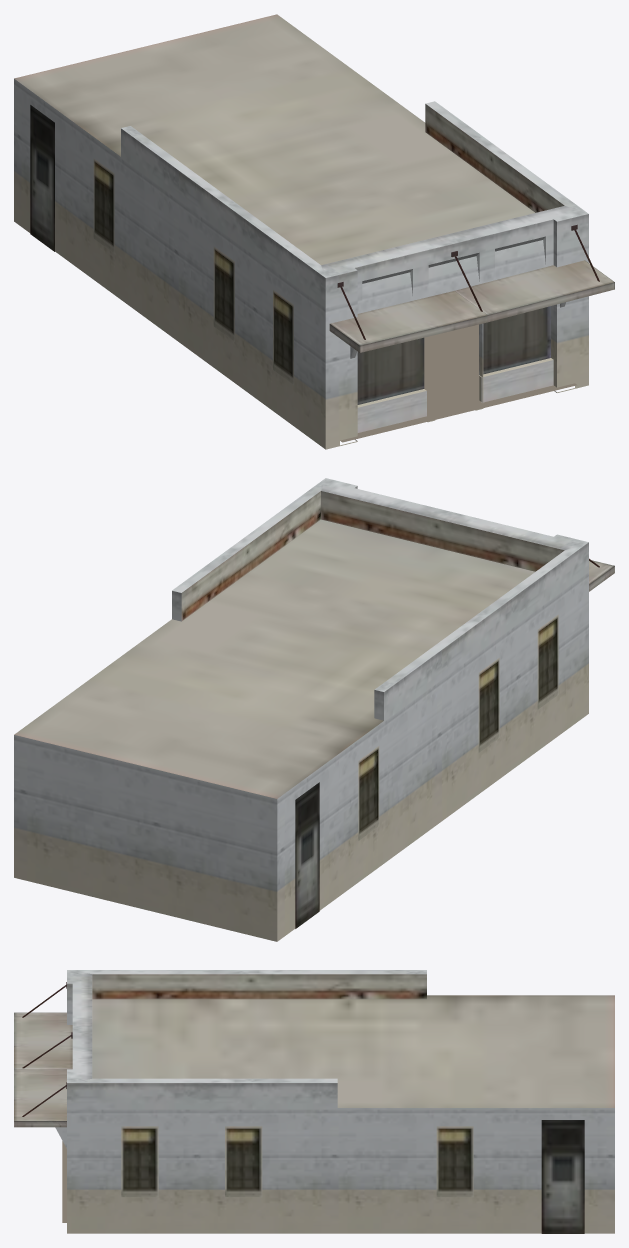
Rendered from rural-store-3.zfix-v1.lod1.glb.
3 renders of one model, top to bottom at view 1: azimuth 30°, elevation 25°; view 2: azimuth 150°, elevation 25°; view 3: azimuth 270°, elevation 25°, orthographic. The views are drawn at different scales.
Visible parts, largest first — view 1: Rural_StoreSmall_3_Rural_Facade_FLR_2_0, Rural_StoreSmall_3_Rural_Midcity_Walls_FLR_1_0, Walkable floors and stairs; view 2: Rural_StoreSmall_3_Rural_Facade_FLR_2_0, Rural_StoreSmall_3_Rural_Midcity_Walls_FLR_1_0; view 3: Rural_StoreSmall_3_Rural_Facade_FLR_2_0, Rural_StoreSmall_3_Rural_Midcity_Walls_FLR_1_0, Walkable floors and stairs.
Part boxes in pixels (<box>): Rural_StoreSmall_3_Rural_Facade_FLR_2_0: <box>14,14,614,404</box>; Rural_StoreSmall_3_Rural_Midcity_Walls_FLR_1_0: <box>14,79,588,449</box>; Walkable floors and stairs: <box>340,324,577,442</box>; Rural_StoreSmall_3_Rural_Facade_FLR_2_0: <box>14,491,614,928</box>; Rural_StoreSmall_3_Rural_Midcity_Walls_FLR_1_0: <box>14,478,588,941</box>; Rural_StoreSmall_3_Rural_Facade_FLR_2_0: <box>14,974,614,1233</box>; Rural_StoreSmall_3_Rural_Midcity_Walls_FLR_1_0: <box>55,970,614,1233</box>; Walkable floors and stairs: <box>62,1141,66,1222</box>.
Size of the model in its own units: 6.07 by 3.76 by 13.59.
3 materials, 2 textured.
